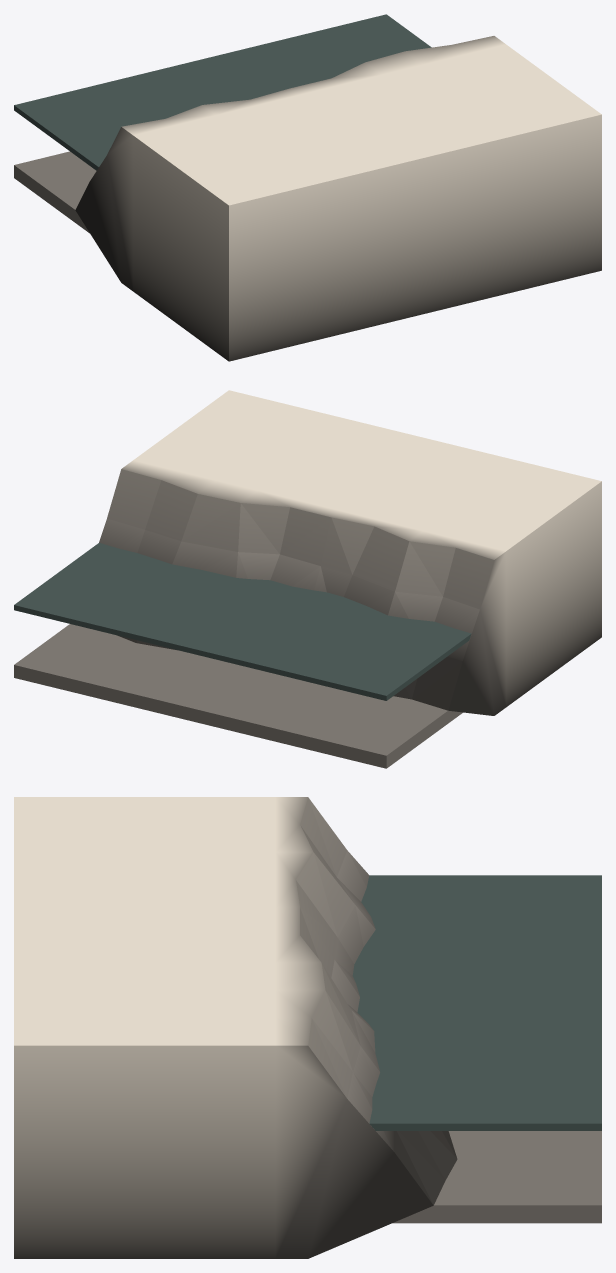
File: SM_VKI_Ground_Stream_OOXX_Q00.fbx
3 renders of one model, top to bottom at view 1: azimuth 30°, elevation 25°; view 2: azimuth 150°, elevation 25°; view 3: azimuth 270°, elevation 25°, orthographic. The views are drawn at different scales.
Parts seen in each view (by area): view 1: SM_VKI_Ground_Stream_OOXX_Q00.001; view 2: SM_VKI_Ground_Stream_OOXX_Q00.001; view 3: SM_VKI_Ground_Stream_OOXX_Q00.001.
Part boxes in pixels (<box>): SM_VKI_Ground_Stream_OOXX_Q00.001: <box>14,14,601,361</box>; SM_VKI_Ground_Stream_OOXX_Q00.001: <box>14,390,601,768</box>; SM_VKI_Ground_Stream_OOXX_Q00.001: <box>14,797,601,1258</box>.
Size of the model in its own units: 1.5 by 0.6 by 1.5.
